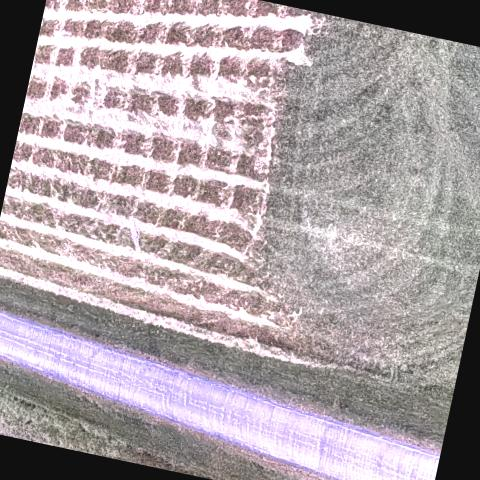person: (120, 217, 149, 253)
